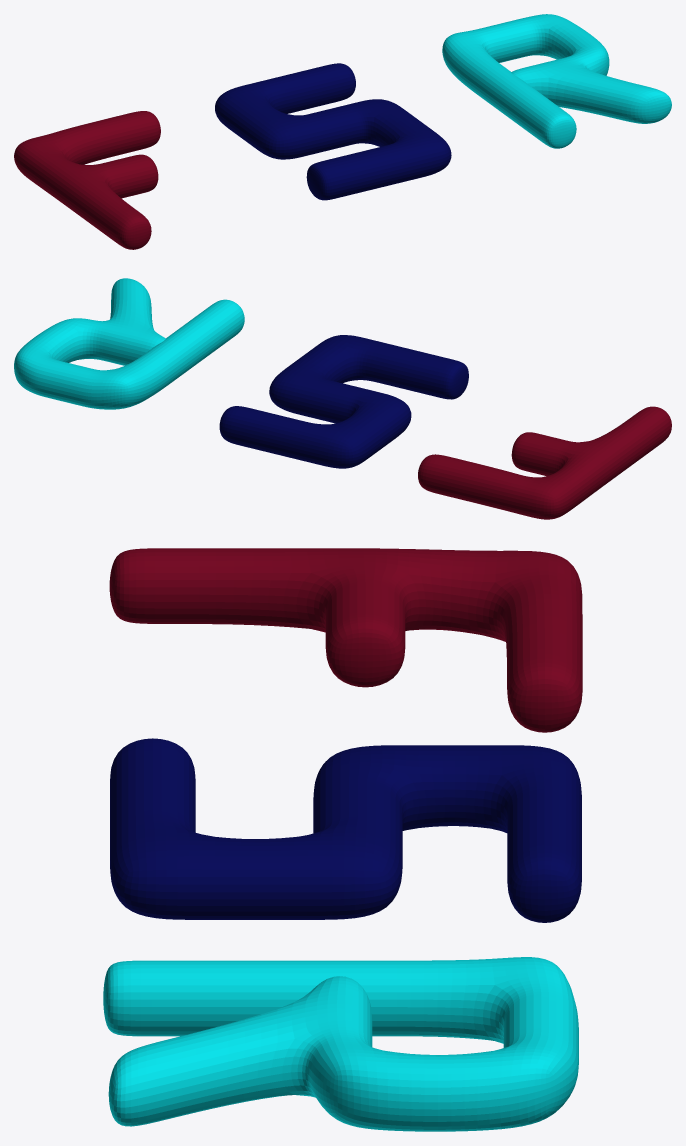
Rendered from fsr.fbx.
3 views of the same model, one above another, from view 1: azimuth 30°, elevation 25°; view 2: azimuth 150°, elevation 25°; view 3: azimuth 270°, elevation 25° (orthographic). The views are drawn at different scales.
Visible parts, largest first — view 1: Cube.001, Cube.002, Cube; view 2: Cube.001, Cube.002, Cube; view 3: Cube.002, Cube.001, Cube.
Part boxes in pixels (x1,y1,x2,y2): Cube.001: (215,63,451,200); Cube.002: (442,14,671,148); Cube: (14,111,160,249); Cube.001: (219,335,468,468); Cube.002: (14,278,244,409); Cube: (418,406,671,519); Cube.002: (103,957,578,1131); Cube.001: (110,738,581,922); Cube: (109,548,582,732).
Bounding box in the file's own units: 3130 × 212 × 1176.
